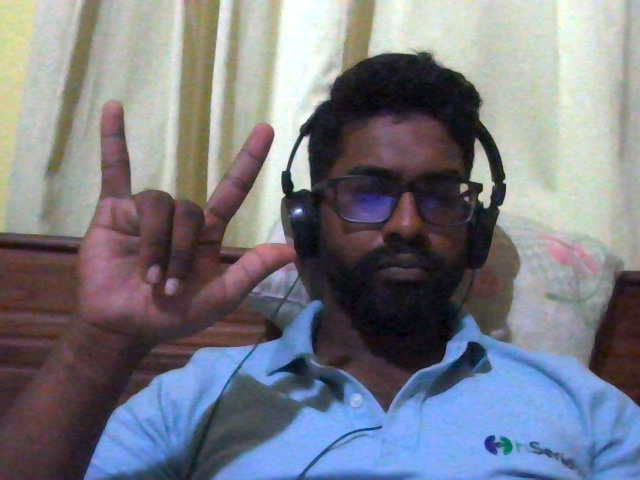I Love You: (38, 73, 339, 364)
